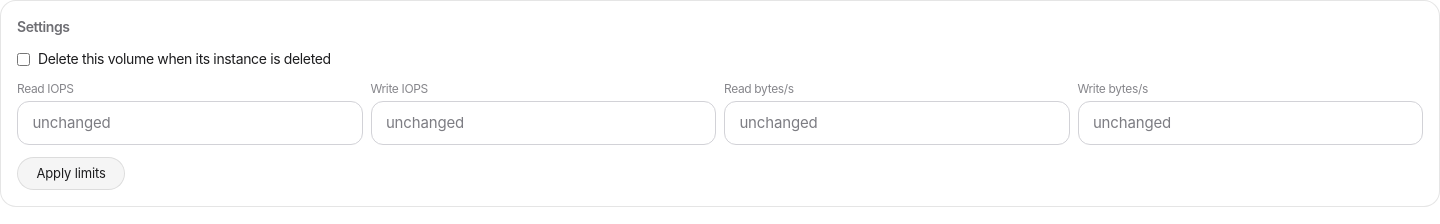
sends only the limits that were filled in
The width and height of the screenshot is (1440, 224).
Type "500" into the field labelled "Read IOPS".
click(190, 123); type("500")  # box [17,101,362,145]
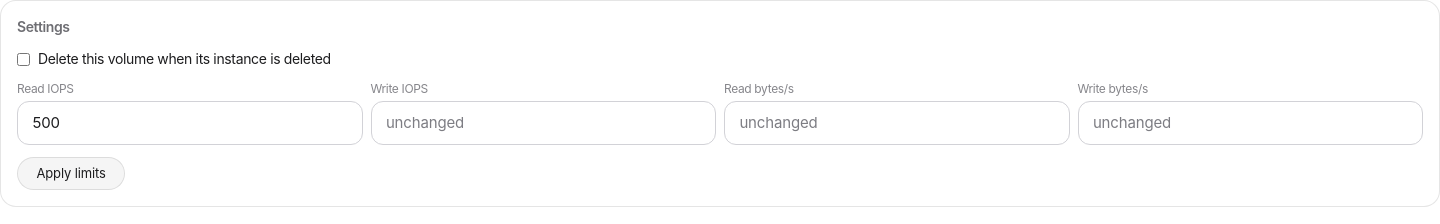
Click the button "Apply limits".
click(71, 174)  # box [17,157,125,190]
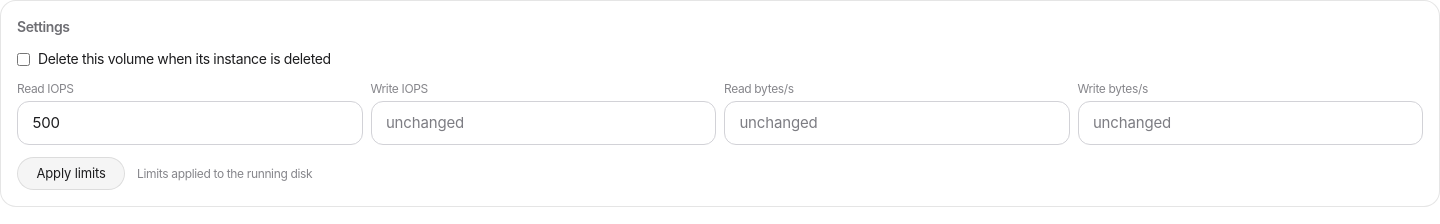
Check: the text "Limits applied to the running disk" is shown, box [137,166,312,182]
